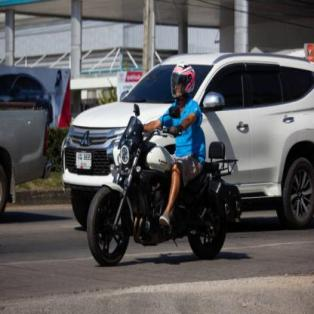Motocicleta: (83, 114, 235, 263)
